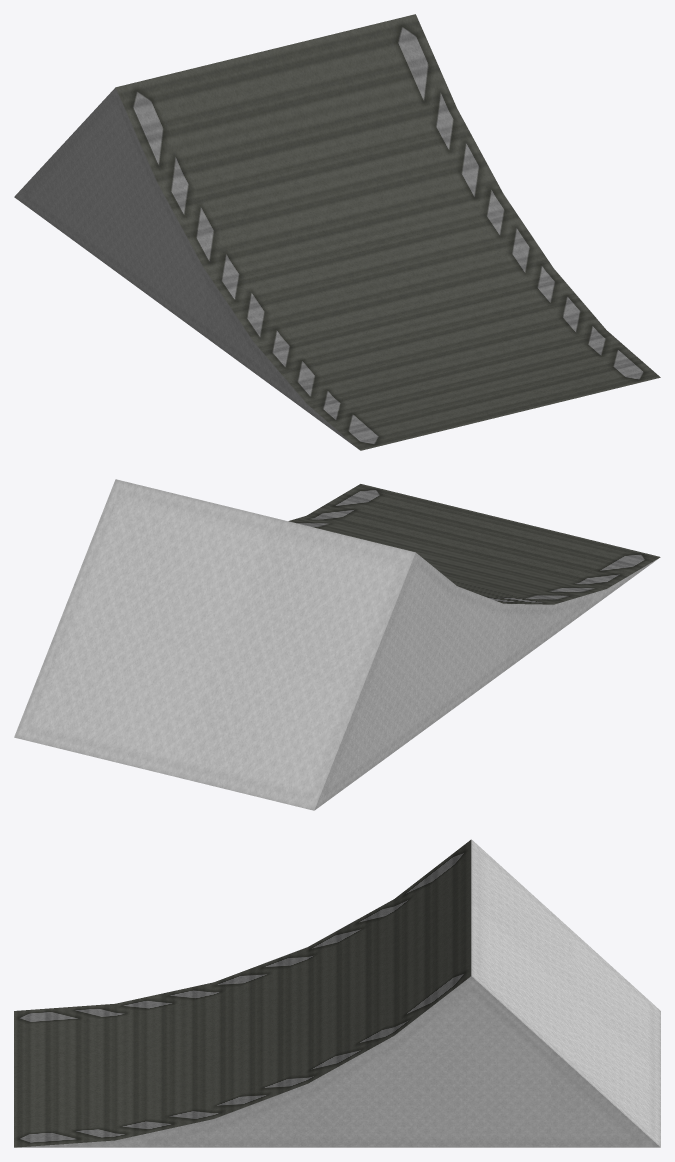
File: S_Slope.FBX
3 views of the same model, one above another, from view 1: azimuth 30°, elevation 25°; view 2: azimuth 150°, elevation 25°; view 3: azimuth 270°, elevation 25° (orthographic). The views are drawn at different scales.
Parts seen in each view (by area): view 1: S_Slope001; view 2: S_Slope001; view 3: S_Slope001.
Part boxes in pixels (x1,y1,x2,y2): S_Slope001: (14,14,660,450); S_Slope001: (14,479,660,810); S_Slope001: (14,839,660,1147).
Size of the model in its own units: 50 by 29.29 by 100.
Materials: 1 (1 with a texture image).
